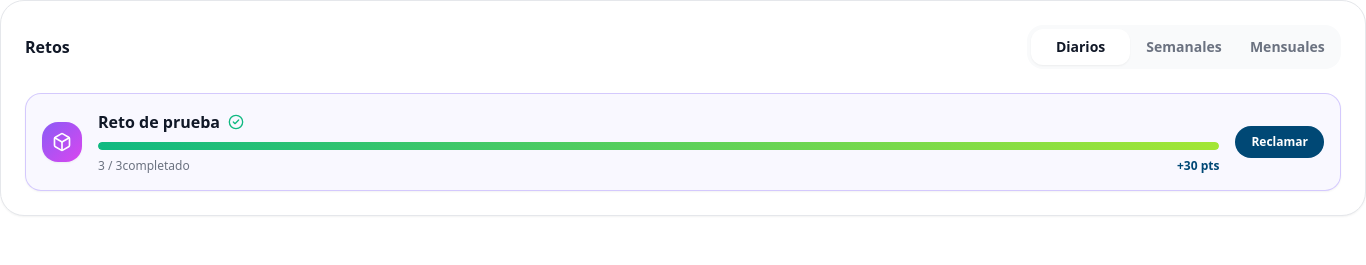
Test case: ChallengesBoard – HU-GAM-05: Participar en retos de sostenibilidad › muestra mensaje de error cuando falla la reclamación
What coordinates should you click on to do the following:
click the button "Reclamar"
I would click on:
 (1280, 142)
Its box is [1235,126,1324,158].
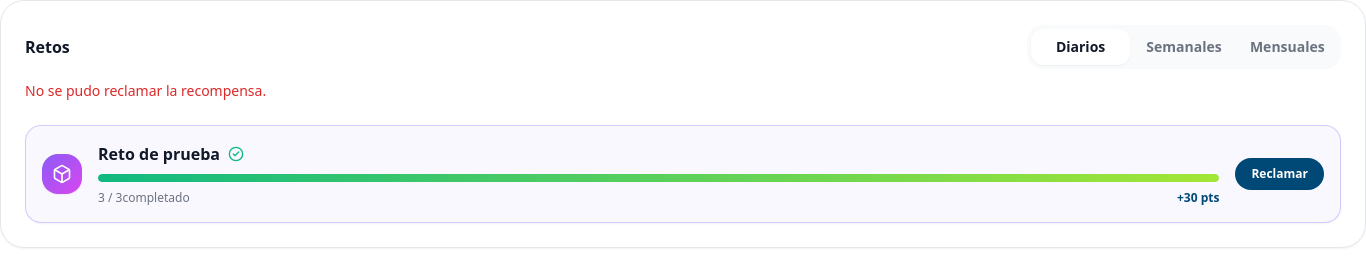
Expected: the text "No se pudo reclamar la recompensa." is shown, [25,81,266,100]
